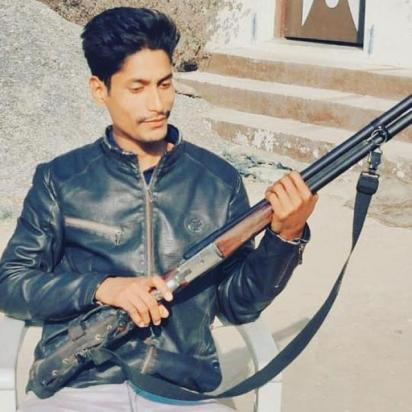Gun: (22, 94, 412, 403)
